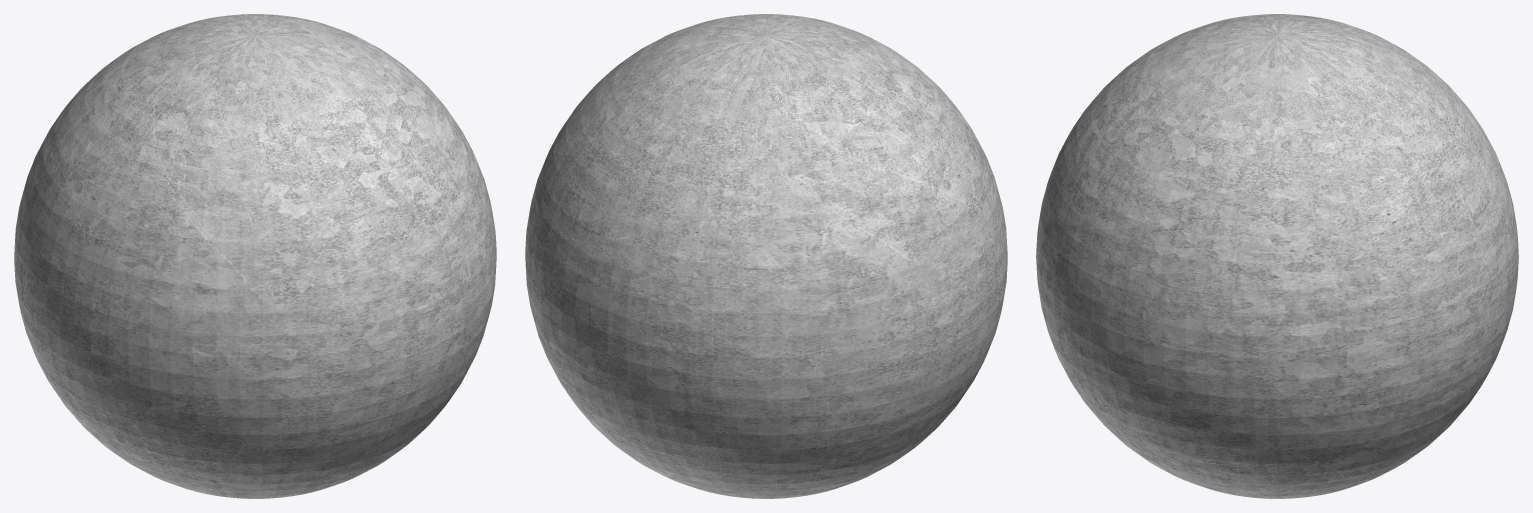
Rendered from sphere_highpoly.obj.
3 renders of one model, left to right at view 1: azimuth 30°, elevation 25°; view 2: azimuth 150°, elevation 25°; view 3: azimuth 270°, elevation 25°, orthographic.
Parts seen in each view (by area): view 1: Sphere; view 2: Sphere; view 3: Sphere.
Part boxes in pixels (left/top/right/bottom): Sphere: left=14, top=14, right=496, bottom=498; Sphere: left=525, top=14, right=1007, bottom=498; Sphere: left=1036, top=14, right=1518, bottom=498.
Size of the model in its own units: 1.97 by 2 by 1.97.
1 material, 1 textured.
